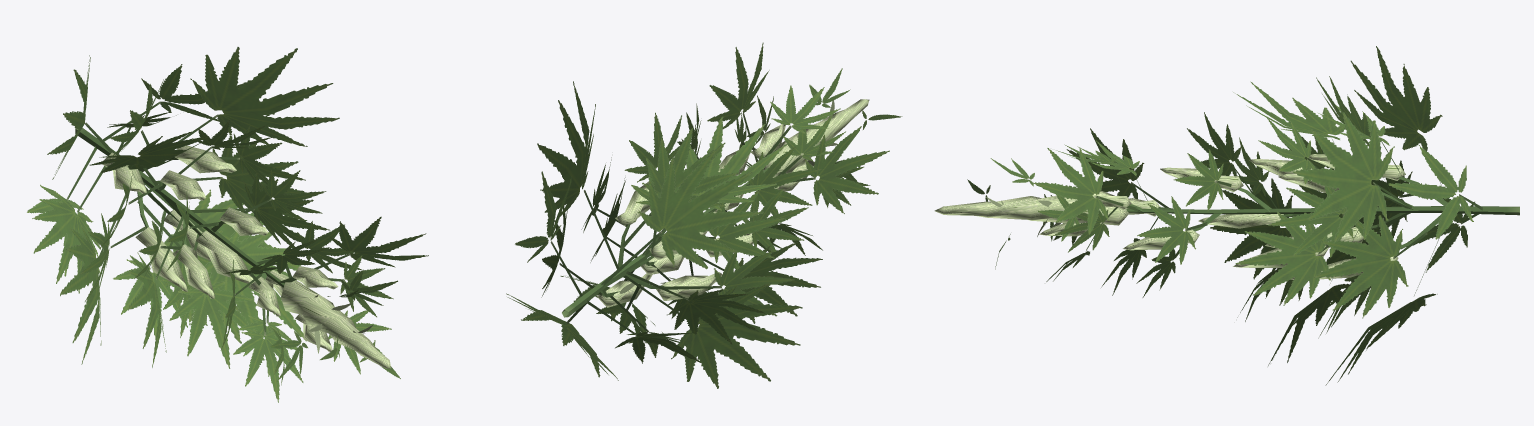
File: p_frosty_landrace_flowering_c0_cards.obj
3 views of the same model, side by side, from view 1: azimuth 30°, elevation 25°; view 2: azimuth 150°, elevation 25°; view 3: azimuth 270°, elevation 25° (orthographic). The views are drawn at different scales.
Bounding box in the file's own units: 1.31 × 1.34 × 2.12.
Materials: 1 (1 with a texture image).
